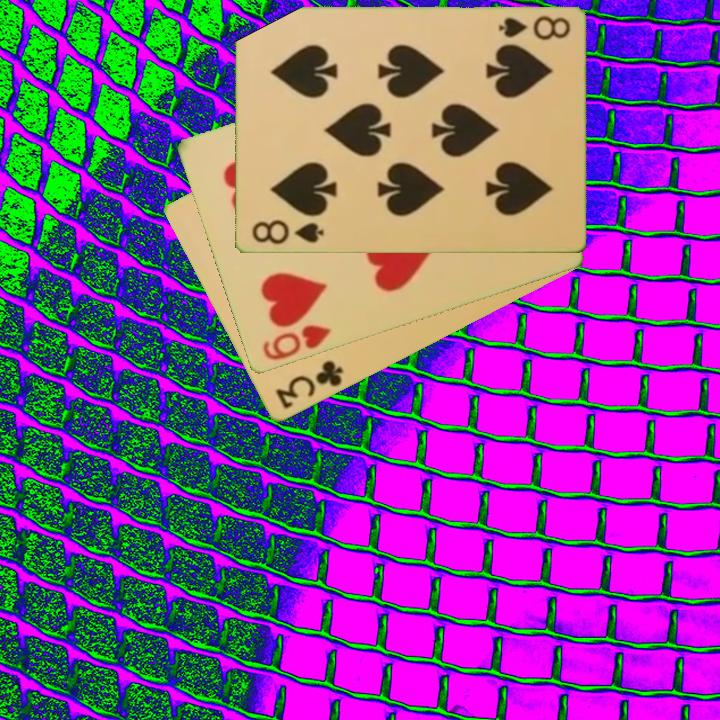3c: (272, 357, 346, 413)
6h: (259, 321, 334, 364)
8s: (248, 216, 327, 247), (495, 12, 573, 43)
